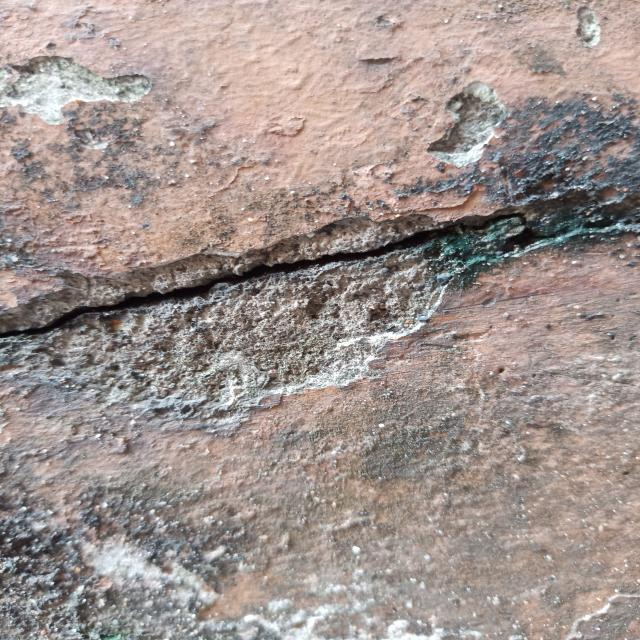diagonal crack: (3, 216, 547, 338)
